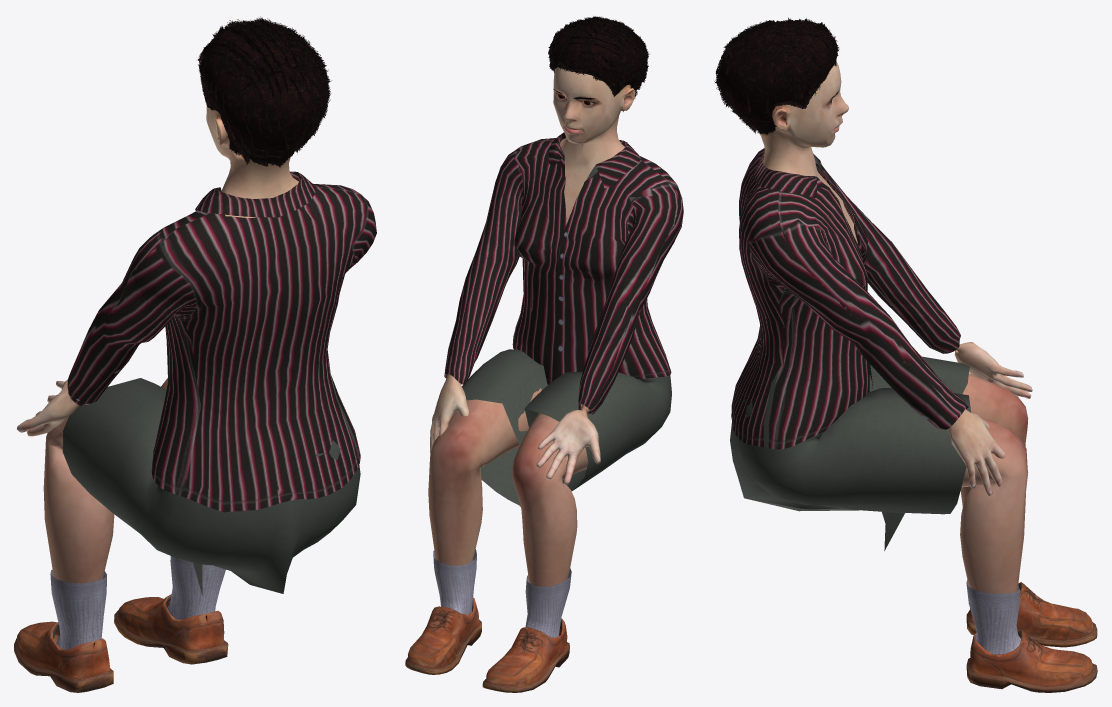
File: sitting_2.gltf
3 views of the same model, side by side, from view 1: azimuth 30°, elevation 25°; view 2: azimuth 150°, elevation 25°; view 3: azimuth 270°, elevation 25° (orthographic). The views are drawn at different scales.
Parts seen in each view (by area): view 1: sitting; view 2: sitting; view 3: sitting.
Boxes of the visible parts, x1=… form: sitting: x1=14, y1=16, x2=376, y2=692; sitting: x1=405, y1=16, x2=683, y2=692; sitting: x1=714, y1=17, x2=1097, y2=692.
Size of the model in its own units: 0.3992 by 1.16 by 0.6352.
Materials: 6 (6 with a texture image).
